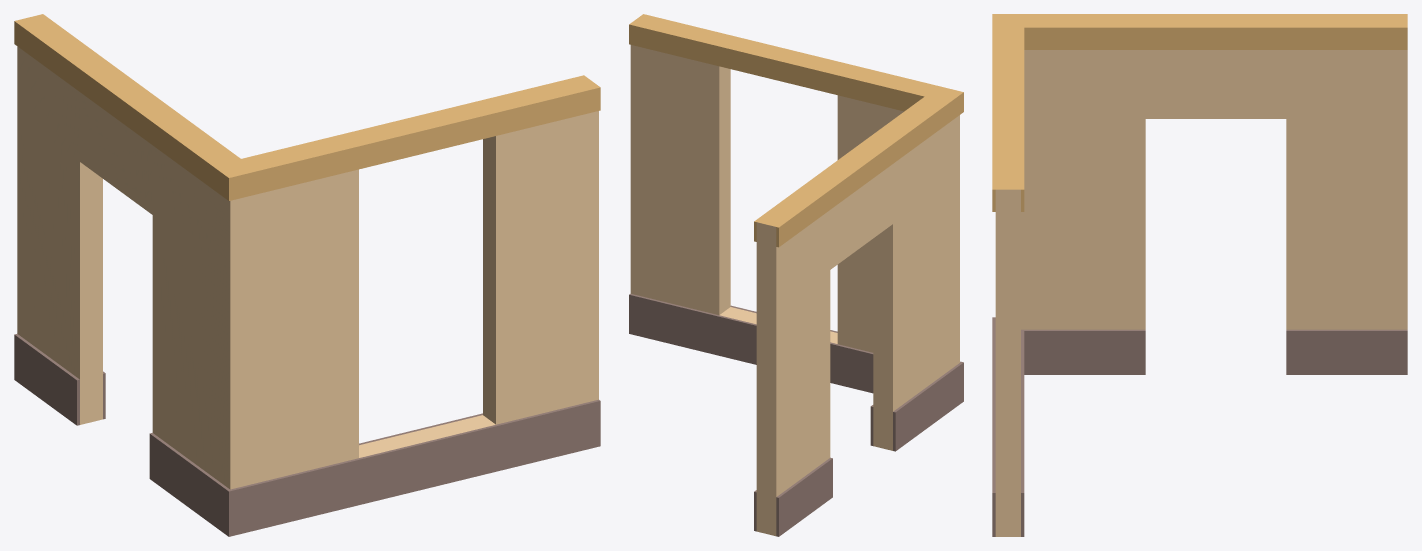
Rendered from Wall06-02.fbx.
3 renders of one model, left to right at view 1: azimuth 30°, elevation 25°; view 2: azimuth 150°, elevation 25°; view 3: azimuth 270°, elevation 25°, orthographic. The views are drawn at different scales.
Parts seen in each view (by area): view 1: Wall06-02; view 2: Wall06-02; view 3: Wall06-02.
Part boxes in pixels (x1,y1,x2,y2): Wall06-02: (14, 14, 600, 536); Wall06-02: (629, 14, 963, 536); Wall06-02: (992, 14, 1407, 536).
Bounding box in the file's own units: 3.25 × 3.25 × 3.
